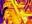Hotspot: (6, 0, 27, 23), (3, 8, 15, 23), (23, 13, 31, 18)
